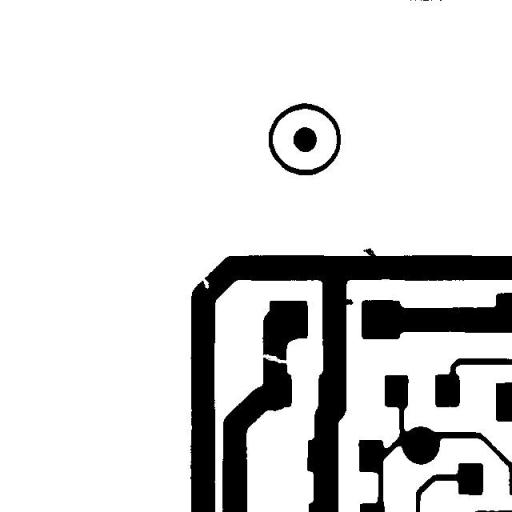mousebite: (192, 270, 216, 296)
open: (253, 346, 296, 372)
spur: (355, 240, 383, 267), (335, 291, 361, 312)
